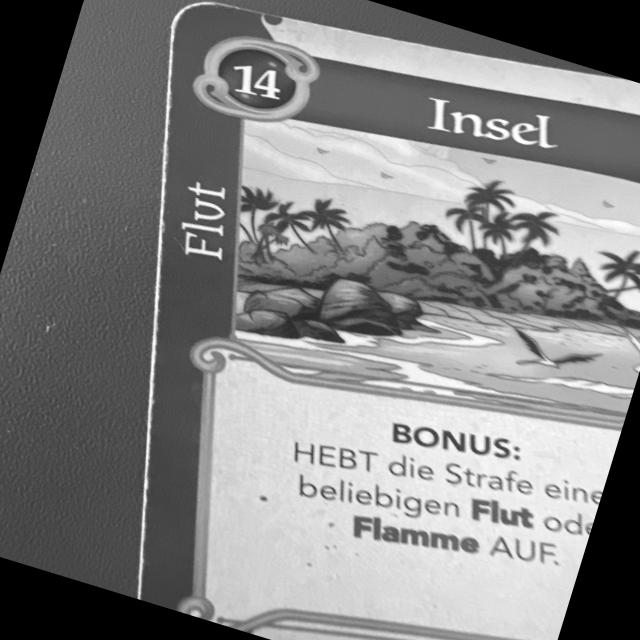Island: (140, 0, 640, 640)
